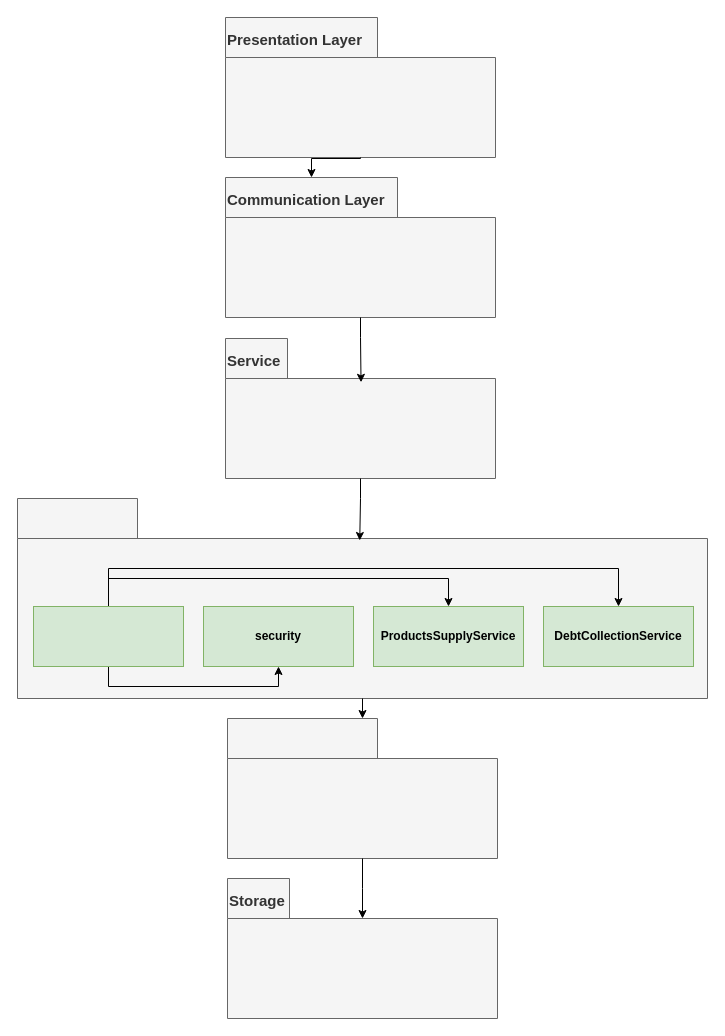
This 725x1036 diagram has some shape labels left out. Each missing label, with the box of its shape:
Data Access Layer: (226, 718, 498, 858)
Domain: (16, 498, 708, 698)
Market: (32, 606, 184, 666)
